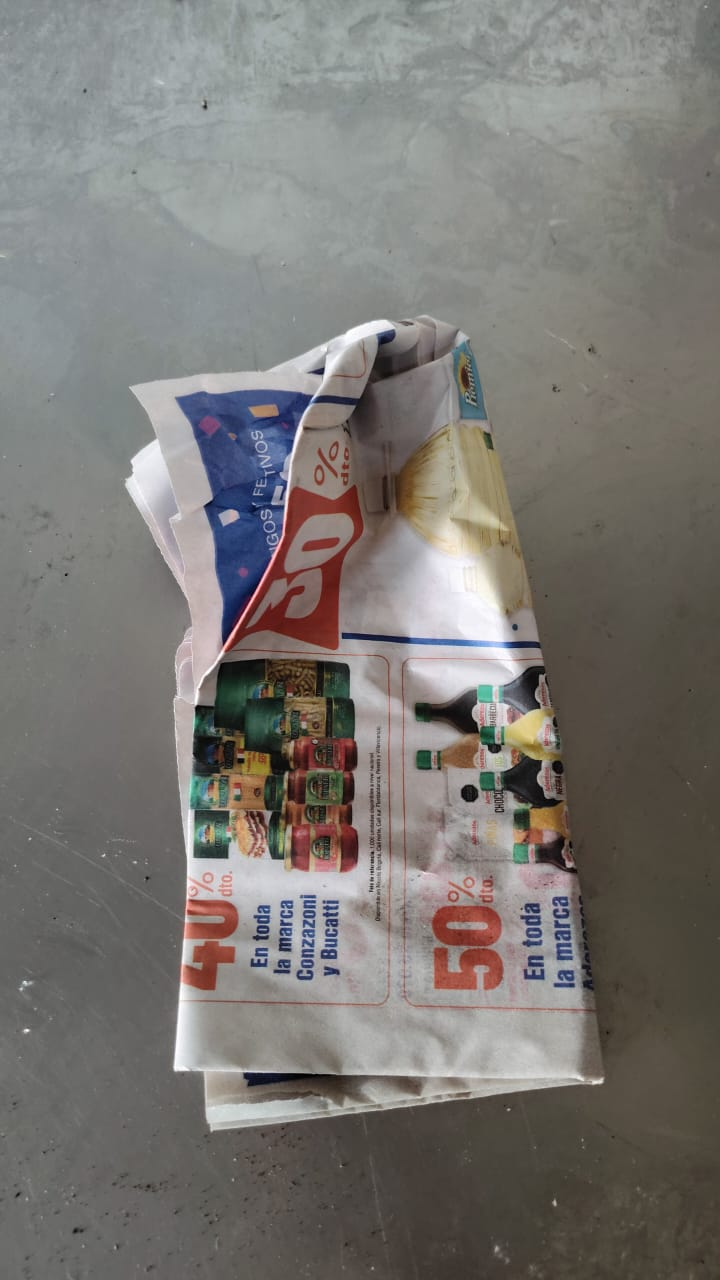Papel: (125, 318, 607, 1134)
